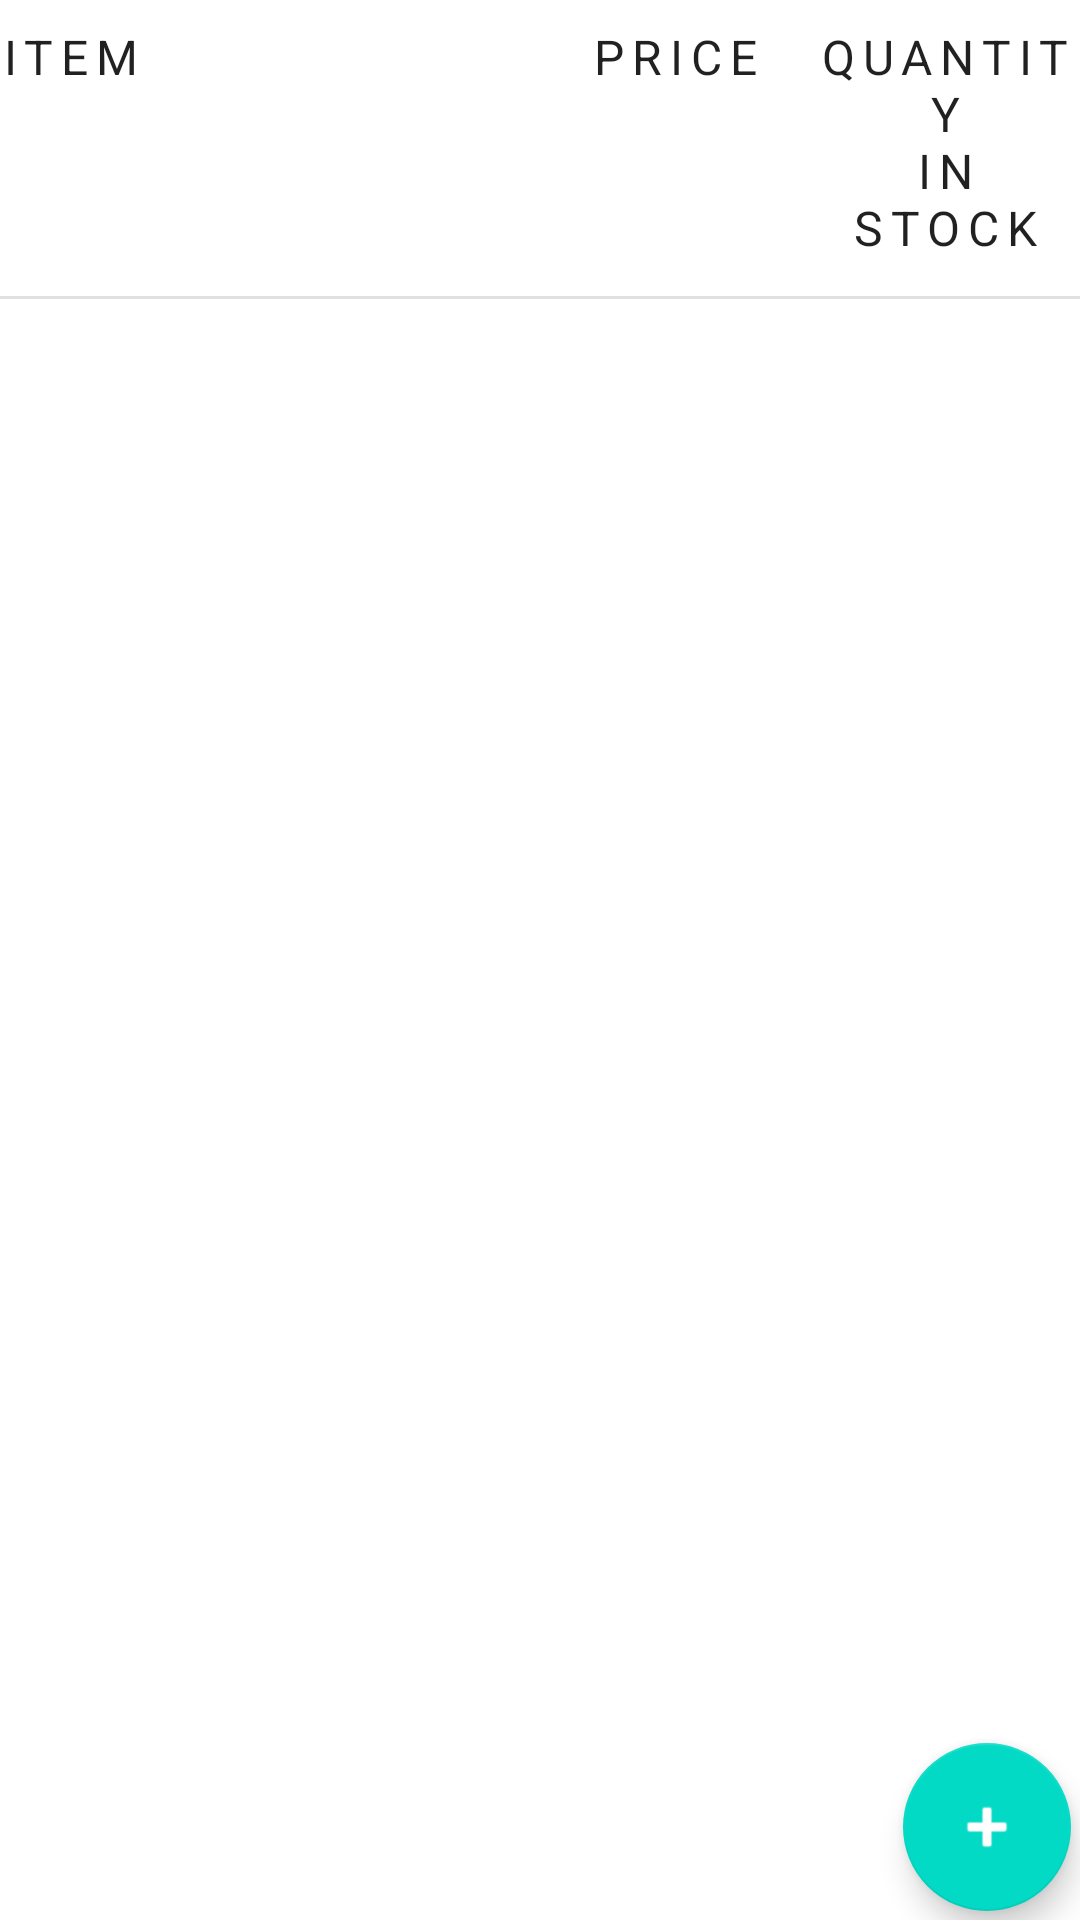

Named icons in this screenshot (1080w x 1920h) and their centers, (x=x, y=y):
Add new item: (x=987, y=1827)
